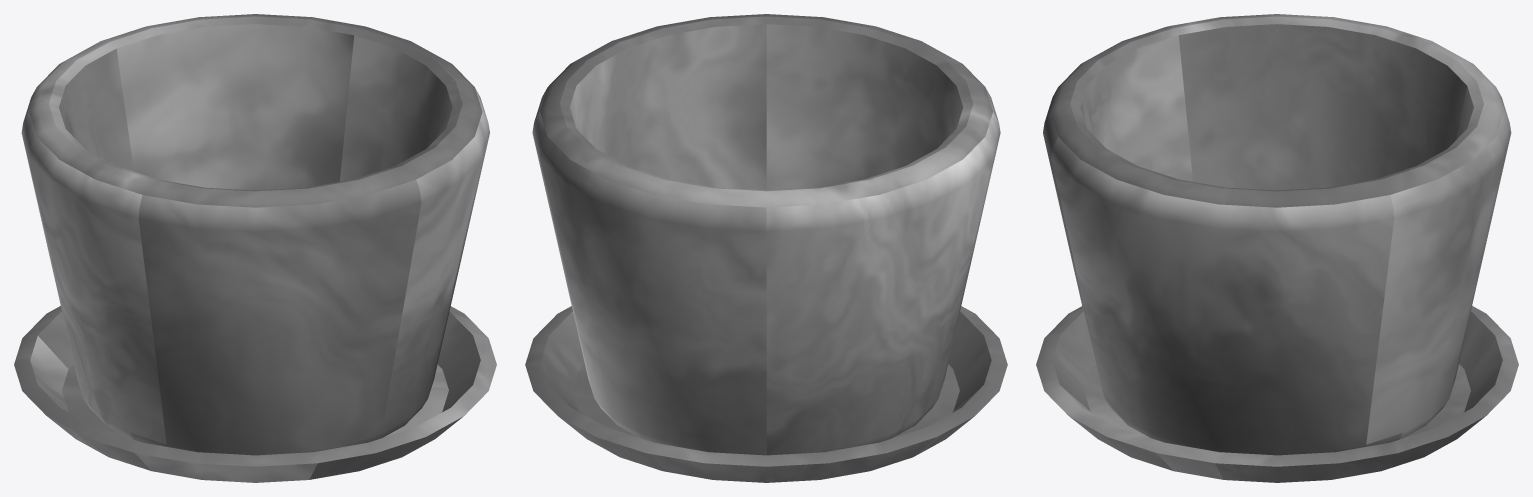
The model's file is SM_glass_02.fbx.
The picture shows the model from 3 angles, left to right: view 1: azimuth 30°, elevation 25°; view 2: azimuth 150°, elevation 25°; view 3: azimuth 270°, elevation 25°; orthographic projection.
Visible parts, largest first — view 1: SM_glass_02; view 2: SM_glass_02; view 3: SM_glass_02.
Boxes of the visible parts, left/top/right/bottom form: SM_glass_02: left=14, top=14, right=496, bottom=482; SM_glass_02: left=525, top=14, right=1007, bottom=482; SM_glass_02: left=1036, top=14, right=1518, bottom=482.
Size of the model in its own units: 8.43 by 8.43 by 5.61.
Materials: 1 (1 with a texture image).
